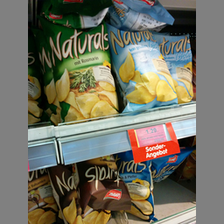chips: (48, 25, 119, 121), (108, 27, 179, 110), (74, 157, 133, 214)
